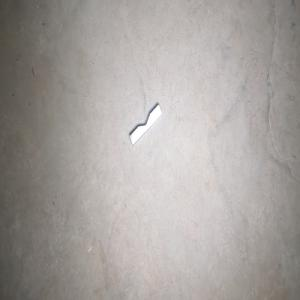ClampPart: (129, 103, 162, 146)
